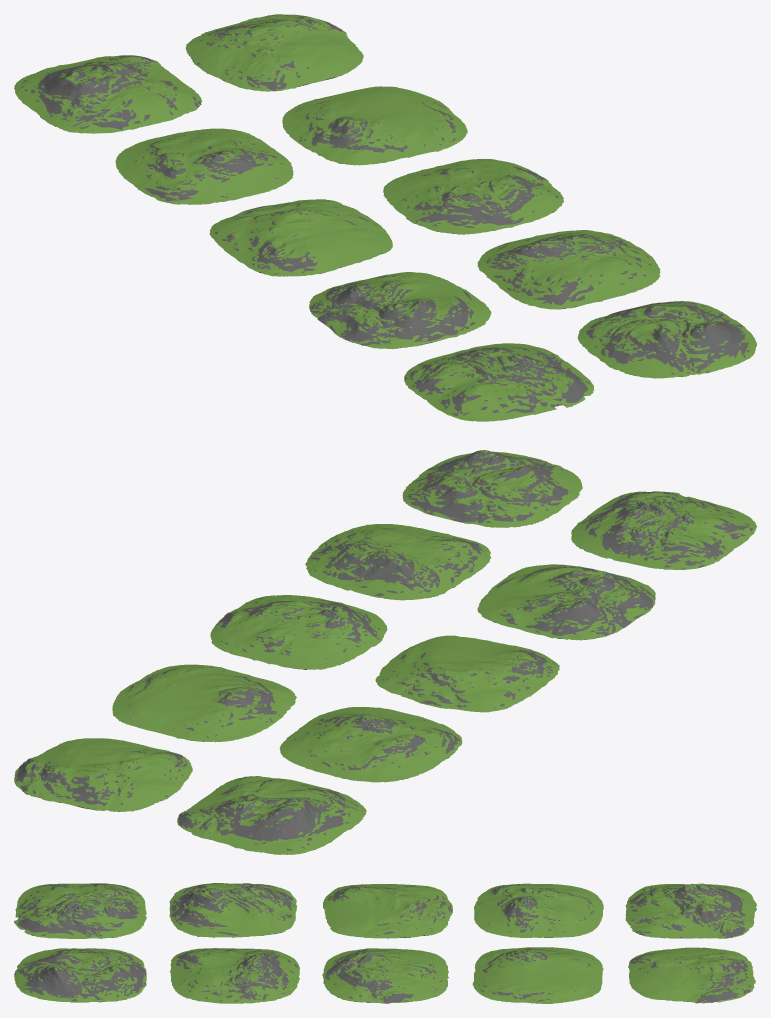
File: Terrain.fbx
3 renders of one model, top to bottom at view 1: azimuth 30°, elevation 25°; view 2: azimuth 150°, elevation 25°; view 3: azimuth 270°, elevation 25°, orthographic. The views are drawn at different scales.
Visible parts, largest first — view 1: Terrain 02, Terrain 09, Terrain 03, Terrain 07, Terrain 06, Terrain 05, Terrain 04, Terrain 01, Terrain 08, Terrain 10; view 2: Terrain 02, Terrain 09, Terrain 03, Terrain 07, Terrain 06, Terrain 05, Terrain 04, Terrain 01, Terrain 08, Terrain 10; view 3: Terrain 02, Terrain 03, Terrain 09, Terrain 07, Terrain 06, Terrain 05, Terrain 04, Terrain 01, Terrain 08, Terrain 10.
Boxes of the visible parts, left/top/right/bottom form: Terrain 02: left=404, top=343, right=594, bottom=421; Terrain 09: left=282, top=86, right=467, bottom=165; Terrain 03: left=14, top=55, right=201, bottom=133; Terrain 07: left=477, top=230, right=660, bottom=309; Terrain 06: left=577, top=301, right=756, bottom=378; Terrain 05: left=209, top=199, right=392, bottom=276; Terrain 04: left=115, top=128, right=293, bottom=204; Terrain 01: left=309, top=272, right=491, bottom=348; Terrain 08: left=185, top=14, right=363, bottom=91; Terrain 10: left=383, top=158, right=563, bottom=234; Terrain 02: left=571, top=491, right=756, bottom=569; Terrain 09: left=112, top=664, right=296, bottom=742; Terrain 03: left=177, top=776, right=366, bottom=854; Terrain 07: left=305, top=524, right=491, bottom=600; Terrain 06: left=402, top=450, right=582, bottom=527; Terrain 05: left=375, top=635, right=559, bottom=712; Terrain 04: left=279, top=706, right=462, bottom=782; Terrain 01: left=477, top=564, right=655, bottom=640; Terrain 08: left=14, top=738, right=192, bottom=811; Terrain 10: left=210, top=595, right=387, bottom=669; Terrain 02: left=14, top=883, right=146, bottom=938; Terrain 03: left=625, top=883, right=756, bottom=938; Terrain 09: left=472, top=947, right=603, bottom=1003; Terrain 07: left=170, top=948, right=299, bottom=1003; Terrain 06: left=14, top=948, right=146, bottom=1002; Terrain 05: left=323, top=884, right=452, bottom=938; Terrain 04: left=474, top=883, right=603, bottom=937; Terrain 01: left=169, top=883, right=296, bottom=937; Terrain 08: left=628, top=947, right=755, bottom=1003; Terrain 10: left=322, top=948, right=448, bottom=1003.
Size of the model in its own units: 374 by 974 by 25.26.
